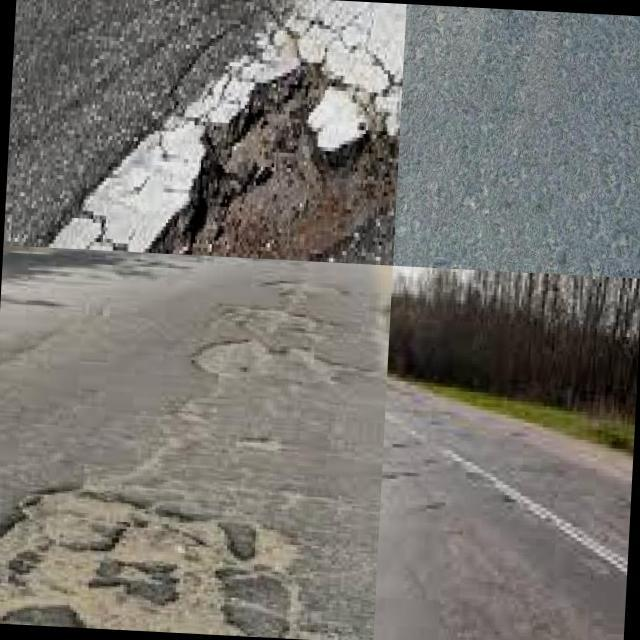Pothole: (142, 66, 399, 261), (70, 514, 181, 633), (0, 464, 53, 546), (247, 525, 301, 575)
